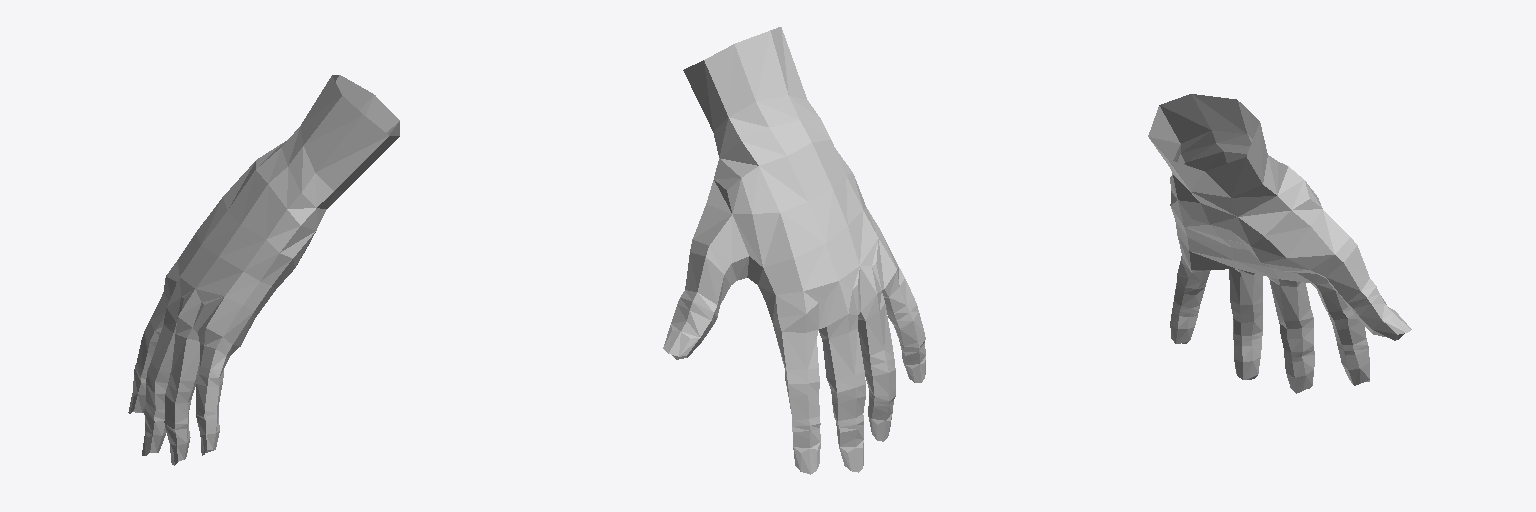
The model's file is hand.obj.
The picture shows the model from 3 angles: view 1: azimuth 30°, elevation 25°; view 2: azimuth 150°, elevation 25°; view 3: azimuth 270°, elevation 25°; orthographic projection.
Parts seen in each view (by area): view 1: Plane005; view 2: Plane005; view 3: Plane005.
Boxes of the visible parts, x1=… form: Plane005: x1=128, y1=75, x2=399, y2=465; Plane005: x1=663, y1=27, x2=925, y2=474; Plane005: x1=1148, y1=94, x2=1411, y2=393.
Size of the model in its own units: 58.12 by 95.53 by 62.37.